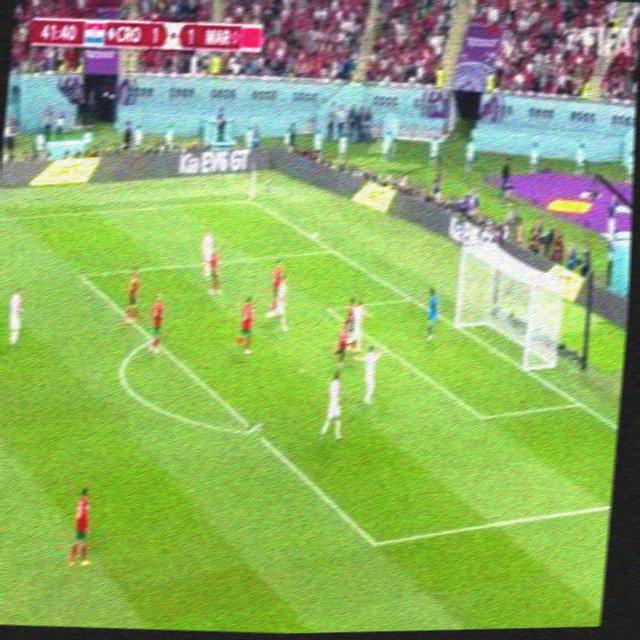bigarea_bottom_inner: (367, 533, 383, 555)
bigarea_top_inner: (74, 266, 88, 286)
bigarea_top_outter: (326, 242, 338, 259)
bottom_arc_area_intersection: (246, 422, 263, 442)
corner: (244, 197, 257, 204)
smallarea_bottom_inner: (475, 408, 490, 428)
smallarea_bottom_outter: (572, 394, 589, 414)
smallarea_top_inner: (323, 300, 336, 321)
smallarea_top_outter: (403, 291, 418, 307)
